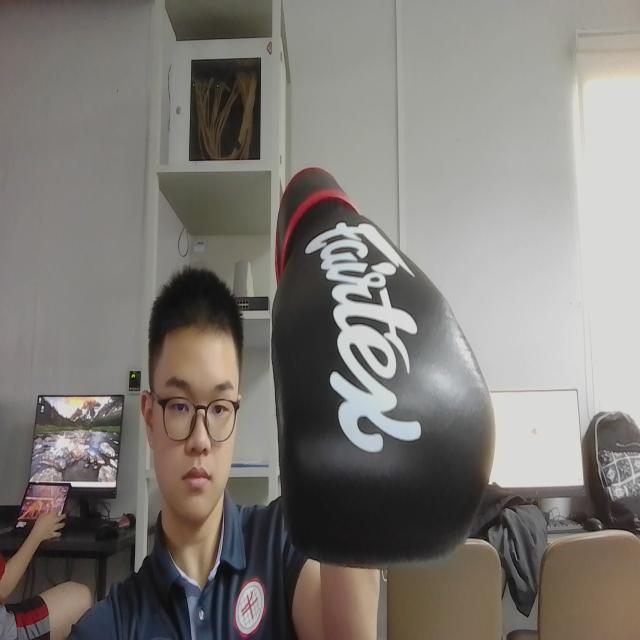boxing glove: (262, 148, 506, 576)
